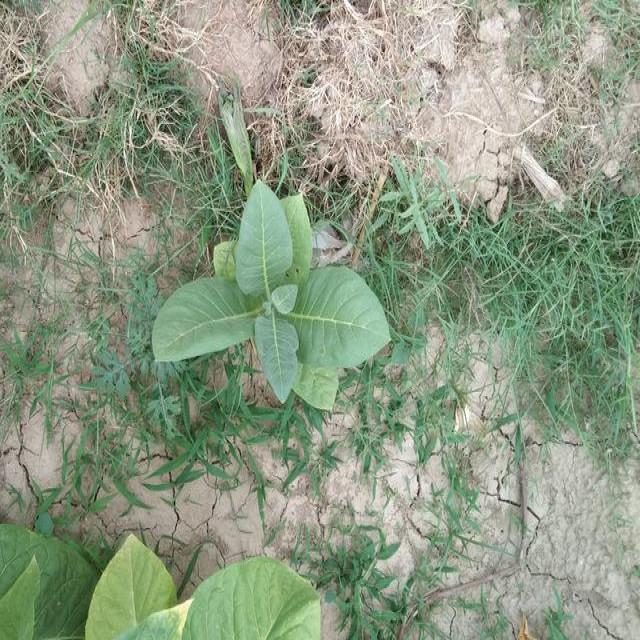crop: (146, 167, 400, 416)
